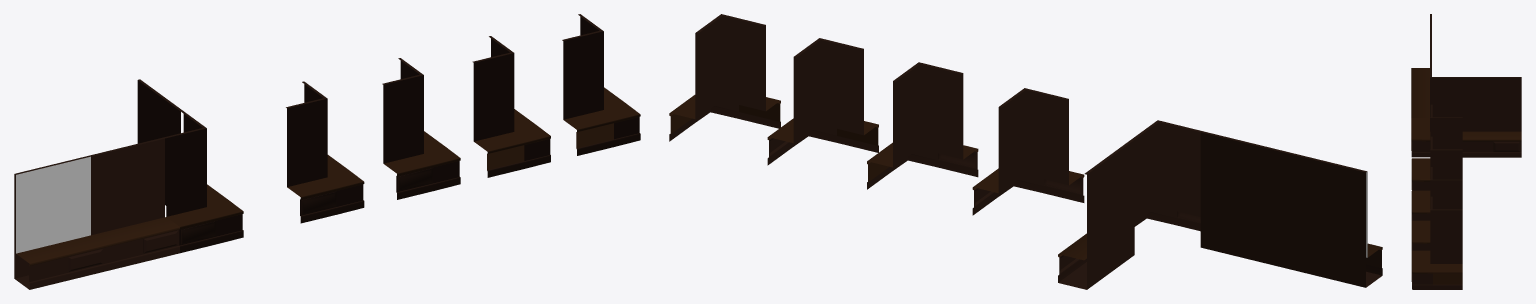
The model's file is EsquinasDef.fbx.
3 renders of one model, left to right at view 1: azimuth 30°, elevation 25°; view 2: azimuth 150°, elevation 25°; view 3: azimuth 270°, elevation 25°, orthographic. The views are drawn at different scales.
Visible parts, largest first — view 1: Modulo 3x3 A.015, Modulo 3x3 A.014, Object001, Modulo 3x3 A.005, Object005, Object004, Object006, Object003, Modulo 3x3 A.008, Modulo 3x3 A.011, Modulo 3x3 A.010, Modulo 3x3 A.012 (+1 smaller); view 2: Modulo 3x3 A.005, Modulo 3x3 A.015, Modulo 3x3 A.013, Modulo 3x3 A.014, Object004, Object005, Object006, Object003, Modulo 3x3 A.012, Modulo 3x3 A.008, Modulo 3x3 A.011, Modulo 3x3 A.010; view 3: Modulo 3x3 A.013, Modulo 3x3 A.014, Object006, Modulo 3x3 A.012, Object003, Object004, Object005, Modulo 3x3 A.008, Modulo 3x3 A.010, Modulo 3x3 A.011, Modulo 3x3 A.015, Modulo 3x3 A.005.
Part boxes in pixels (x1,y1,x2,y2): Modulo 3x3 A.015: (90, 137, 179, 271); Modulo 3x3 A.014: (165, 111, 243, 253); Object001: (16, 156, 90, 253); Modulo 3x3 A.005: (14, 155, 104, 289); Object005: (473, 38, 514, 141); Object004: (383, 61, 423, 163); Object006: (563, 16, 603, 119); Object003: (287, 84, 327, 186); Modulo 3x3 A.008: (286, 81, 364, 223); Modulo 3x3 A.011: (472, 36, 550, 177); Modulo 3x3 A.010: (382, 58, 460, 199); Modulo 3x3 A.012: (562, 14, 640, 155); Modulo 3x3 A.005: (1283, 151, 1382, 287); Modulo 3x3 A.015: (1200, 131, 1284, 267); Modulo 3x3 A.013: (1058, 139, 1134, 289); Modulo 3x3 A.014: (1132, 120, 1201, 231); Object004: (893, 64, 963, 167); Object005: (793, 40, 863, 142); Object006: (695, 16, 765, 118); Object003: (998, 90, 1068, 192); Modulo 3x3 A.012: (669, 14, 780, 141); Modulo 3x3 A.008: (972, 88, 1084, 215); Modulo 3x3 A.011: (767, 38, 878, 165); Modulo 3x3 A.010: (867, 62, 978, 189); Modulo 3x3 A.013: (1462, 77, 1521, 157); Modulo 3x3 A.014: (1411, 64, 1462, 157); Object006: (1430, 210, 1462, 263); Modulo 3x3 A.012: (1411, 196, 1462, 289); Object003: (1430, 118, 1462, 149); Object004: (1430, 150, 1462, 179); Object005: (1430, 180, 1462, 209); Modulo 3x3 A.008: (1411, 104, 1462, 190); Modulo 3x3 A.010: (1411, 136, 1462, 220); Modulo 3x3 A.011: (1411, 167, 1462, 250); Modulo 3x3 A.015: (1411, 39, 1431, 117); Modulo 3x3 A.005: (1411, 14, 1431, 92).
Bounding box in the file's own units: 1920 × 315 × 438.
